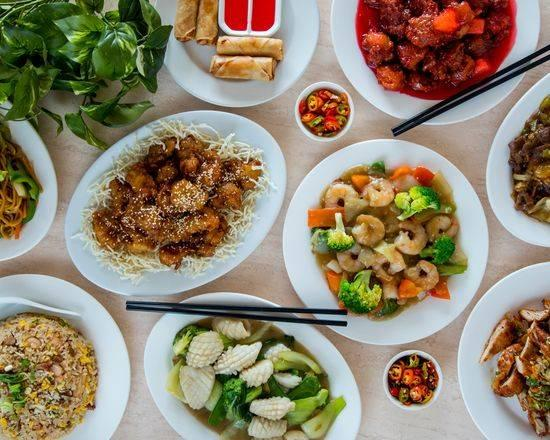Braised Crucian Carp: (282, 139, 487, 345), (66, 109, 282, 296), (142, 292, 360, 437), (330, 0, 542, 125), (0, 273, 134, 438), (153, 0, 317, 109)
